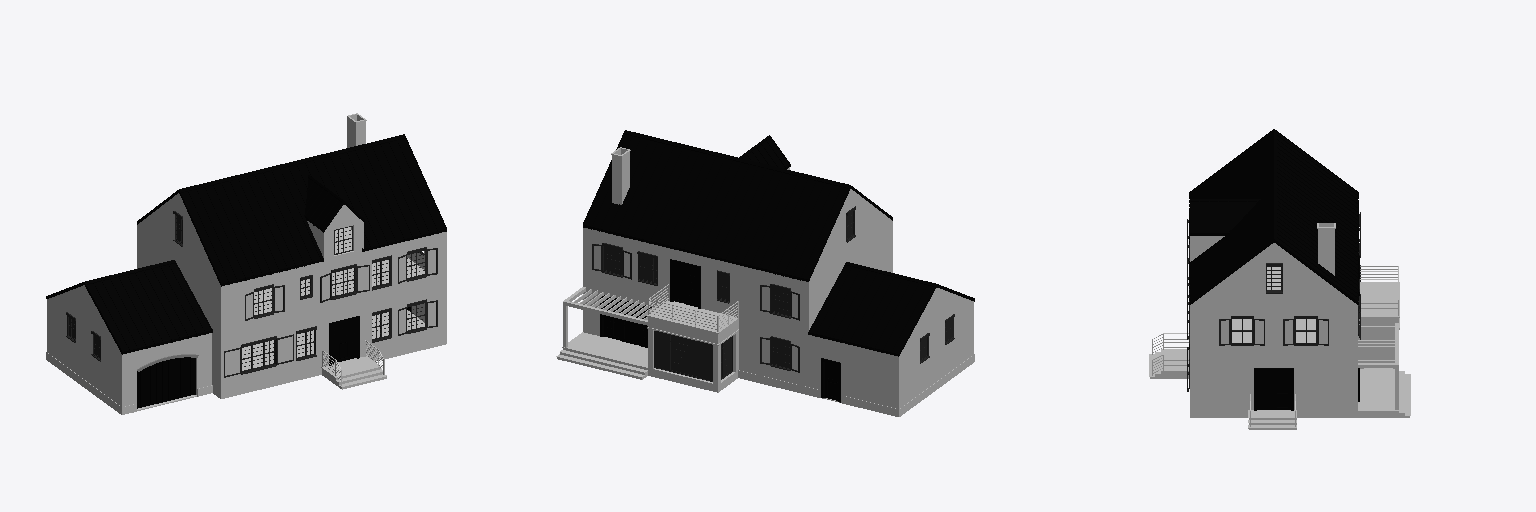
The model's file is house.obj.
3 views of the same model, side by side, from view 1: azimuth 30°, elevation 25°; view 2: azimuth 150°, elevation 25°; view 3: azimuth 270°, elevation 25° (orthographic).
Parts seen in each view (by area): view 1: brick_MBH1OBJ_05, MBH1OBJ_01, stone.001_MBH1OBJ_03, MBH1OBJ_02.002, MBH1OBJ_06, stone_MBH1OBJ_04; view 2: MBH1OBJ_01, brick_MBH1OBJ_05, MBH1OBJ_02.002, stone_MBH1OBJ_04, stone.001_MBH1OBJ_03, MBH1OBJ_06, MBH1OBJ_07; view 3: brick_MBH1OBJ_05, MBH1OBJ_01, stone_MBH1OBJ_04, stone.001_MBH1OBJ_03, MBH1OBJ_06, MBH1OBJ_02.002.
Boxes of the visible parts, box(x1,y1,x2,y2) form: brick_MBH1OBJ_05: box(47, 113, 446, 406); MBH1OBJ_01: box(46, 134, 446, 354); stone.001_MBH1OBJ_03: box(46, 227, 446, 414); MBH1OBJ_02.002: box(66, 211, 437, 377); MBH1OBJ_06: box(137, 307, 410, 408); stone_MBH1OBJ_04: box(321, 340, 386, 389); MBH1OBJ_01: box(583, 130, 974, 356); brick_MBH1OBJ_05: box(583, 147, 973, 408); MBH1OBJ_02.002: box(592, 206, 954, 381); stone_MBH1OBJ_04: box(556, 287, 656, 379); stone.001_MBH1OBJ_03: box(605, 301, 974, 416); MBH1OBJ_06: box(600, 259, 840, 402); MBH1OBJ_07: box(648, 284, 738, 331); brick_MBH1OBJ_05: box(1190, 223, 1399, 409); MBH1OBJ_01: box(1189, 129, 1358, 304); stone_MBH1OBJ_04: box(1149, 323, 1410, 429); stone.001_MBH1OBJ_03: box(1190, 267, 1392, 417); MBH1OBJ_06: box(1189, 256, 1359, 410); MBH1OBJ_02.002: box(1187, 212, 1360, 391).
Size of the model in its own units: 82 by 41.61 by 54.2.